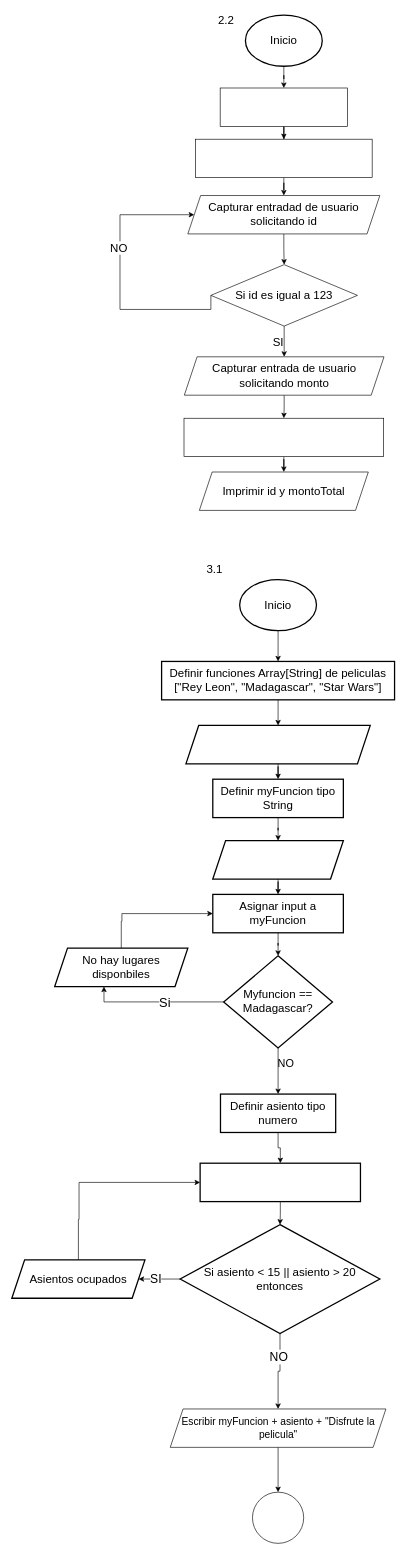
The diagram is 406 pixels wide and 1555 high, and some of its shapes have lost their labels. The shapes that lost their labels are listed below. From the top down, each one's centre as x and y in pixels, then its label:
pixel 284 106: Definir id = 123
pixel 283 158: Definir montoTotal = 0
pixel 283 437: montoTotal = montoTotal * 2
pixel 278 744: Escribir las funciones en pantalla
pixel 278 859: Escribir "Elija funcion"
pixel 280 1182: Escribir asiento <- "Elija un asiento
pixel 278 1517: FIN
